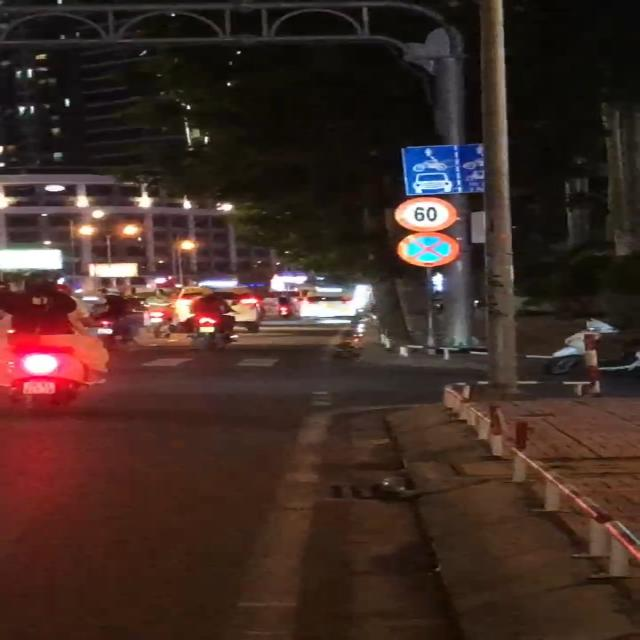Bien bao cam dung xe va do xe: (394, 231, 471, 270)
Bien bao toc do toi da cho phep: (392, 196, 464, 233)
